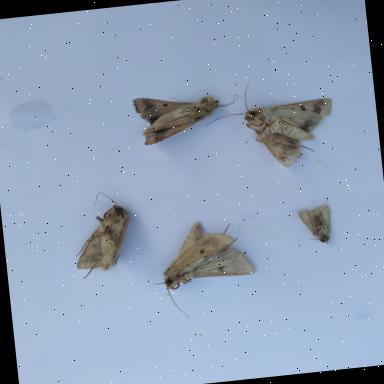abw: (200, 72, 340, 176), (147, 215, 261, 323), (64, 188, 137, 282), (132, 88, 244, 148), (296, 204, 338, 248)
